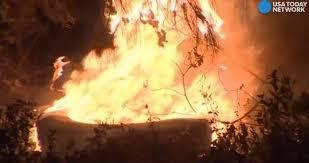fire: (47, 0, 239, 127), (25, 122, 42, 151)
